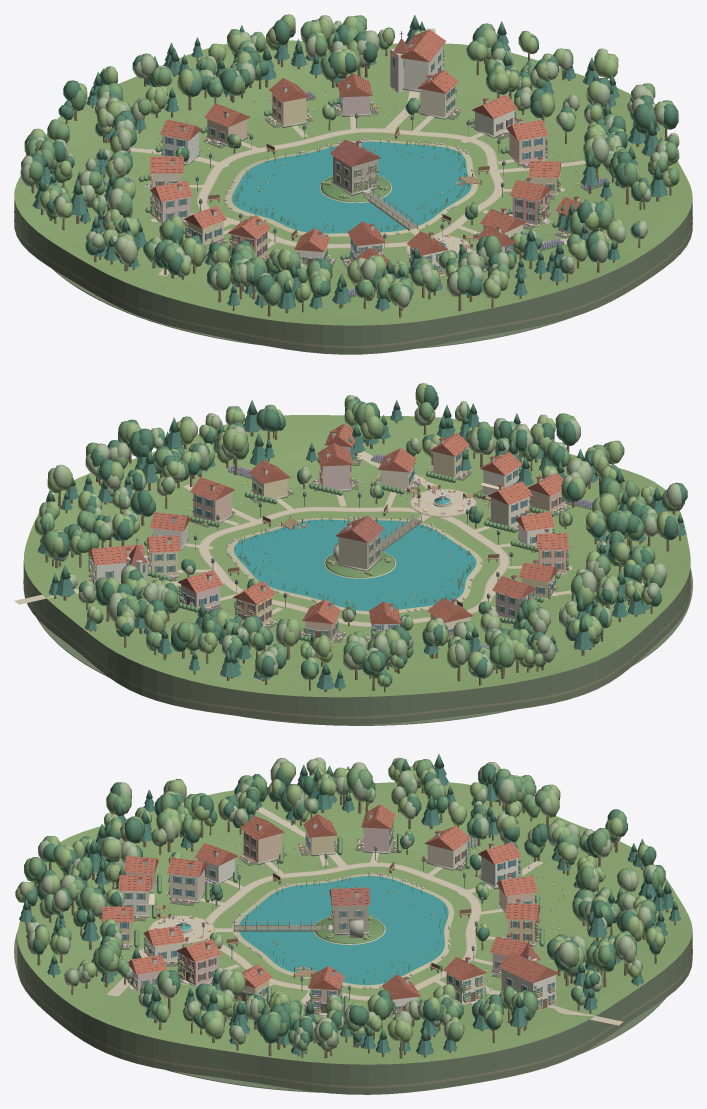
Rendered from landscape.glb.
The picture shows the model from 3 angles, top to bottom: view 1: azimuth 30°, elevation 25°; view 2: azimuth 150°, elevation 25°; view 3: azimuth 270°, elevation 25°; orthographic projection.
Parts seen in each view (by area): view 1: meadow, earth, leaf, leaf_dark, leaf_light, Lake surface, leaf_silver, roof, pine, path, trunk, roof_dark (+22 smaller); view 2: meadow, earth, leaf_dark, leaf, leaf_light, Lake surface, roof, leaf_silver, pine, path, trunk, roof_dark (+20 smaller); view 3: meadow, earth, leaf, leaf_dark, leaf_light, Lake surface, leaf_silver, roof, pine, path, trunk, roof_dark (+21 smaller).
Boxes of the visible parts, x1=… form: meadow: x1=14, y1=40, x2=692, y2=325; earth: x1=14, y1=103, x2=692, y2=354; leaf: x1=26, y1=15, x2=679, y2=305; leaf_dark: x1=24, y1=15, x2=678, y2=305; leaf_light: x1=30, y1=14, x2=679, y2=303; Lake surface: x1=231, y1=141, x2=471, y2=246; leaf_silver: x1=20, y1=15, x2=679, y2=307; roof: x1=150, y1=29, x2=580, y2=266; pine: x1=32, y1=28, x2=667, y2=309; path: x1=130, y1=28, x2=608, y2=275; trunk: x1=31, y1=42, x2=671, y2=317; roof_dark: x1=151, y1=31, x2=579, y2=261; meadow: x1=23, y1=415, x2=690, y2=697; earth: x1=23, y1=457, x2=692, y2=725; leaf_dark: x1=35, y1=385, x2=687, y2=682; leaf: x1=39, y1=398, x2=684, y2=687; leaf_light: x1=35, y1=383, x2=669, y2=686; Lake surface: x1=234, y1=497, x2=476, y2=611; roof: x1=88, y1=423, x2=568, y2=624; leaf_silver: x1=51, y1=395, x2=682, y2=677; pine: x1=38, y1=409, x2=686, y2=689; path: x1=14, y1=451, x2=644, y2=626; trunk: x1=45, y1=421, x2=681, y2=692; roof_dark: x1=93, y1=424, x2=567, y2=621; meadow: x1=17, y1=782, x2=692, y2=1064; earth: x1=14, y1=843, x2=692, y2=1094; leaf: x1=24, y1=758, x2=665, y2=1051; leaf_dark: x1=22, y1=754, x2=678, y2=1048; leaf_light: x1=15, y1=760, x2=664, y2=1044; Lake surface: x1=177, y1=876, x2=448, y2=984; leaf_silver: x1=19, y1=757, x2=658, y2=1052; roof: x1=102, y1=804, x2=558, y2=999; pine: x1=19, y1=768, x2=680, y2=1055; path: x1=107, y1=807, x2=623, y2=1025; trunk: x1=25, y1=783, x2=675, y2=1058; roof_dark: x1=103, y1=808, x2=557, y2=997.
Size of the model in its own units: 117 by 15.31 by 117.
